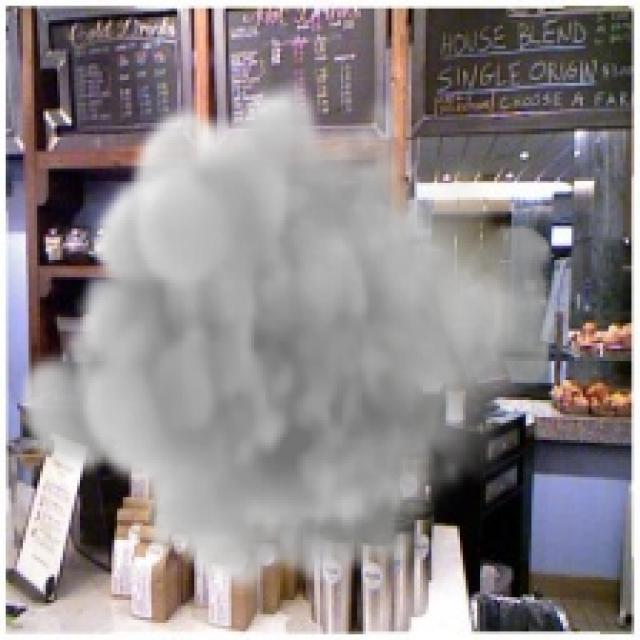Smoke: (11, 77, 560, 594)
